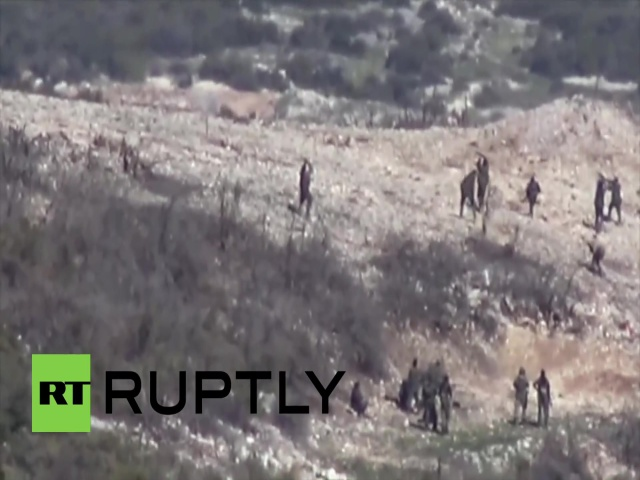person: (295, 155, 314, 221), (400, 357, 423, 410), (511, 365, 531, 422), (438, 369, 455, 435), (420, 372, 439, 430), (458, 165, 478, 217), (534, 368, 552, 425), (606, 174, 624, 224), (524, 174, 540, 218), (477, 154, 490, 208), (593, 180, 604, 231)
